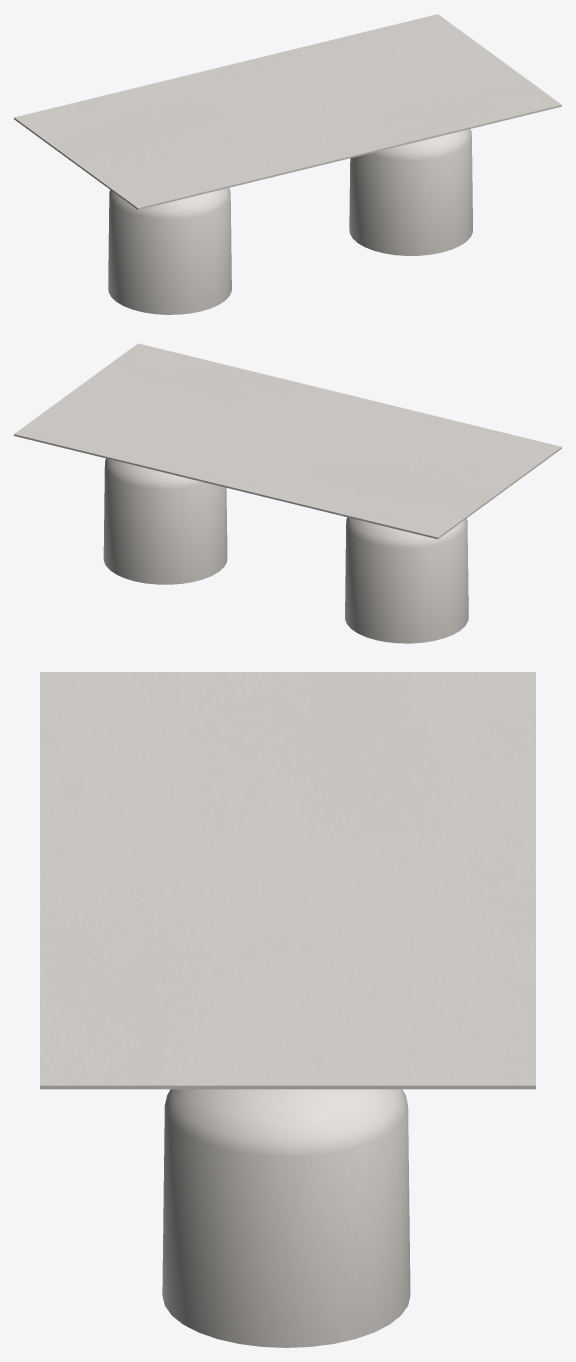
Rendered from purewhite_recta_facet_tornado.glb.
The picture shows the model from 3 angles, top to bottom: view 1: azimuth 30°, elevation 25°; view 2: azimuth 150°, elevation 25°; view 3: azimuth 270°, elevation 25°; orthographic projection. The views are drawn at different scales.
Visible parts, largest first — view 1: facet_recta, tornado; view 2: facet_recta, tornado; view 3: facet_recta, tornado.
Part boxes in pixels (box(x1,y1,x2,y2)): facet_recta: box(14, 14, 561, 209); tornado: box(108, 129, 472, 314); facet_recta: box(14, 343, 561, 539); tornado: box(103, 458, 468, 643); facet_recta: box(40, 672, 535, 1089); tornado: box(162, 1089, 410, 1347).
Size of the model in its own units: 7.5 by 2.51 by 3.8.
Materials: 1 (1 with a texture image).
